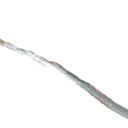crackTip: (1, 38, 128, 124)
